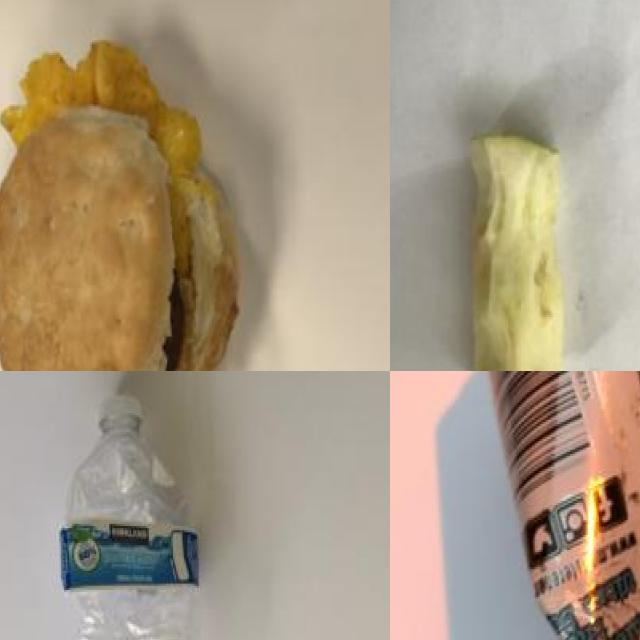compost: (0, 36, 257, 371), (435, 104, 601, 371)
plastic: (477, 371, 640, 640), (56, 378, 222, 640)
